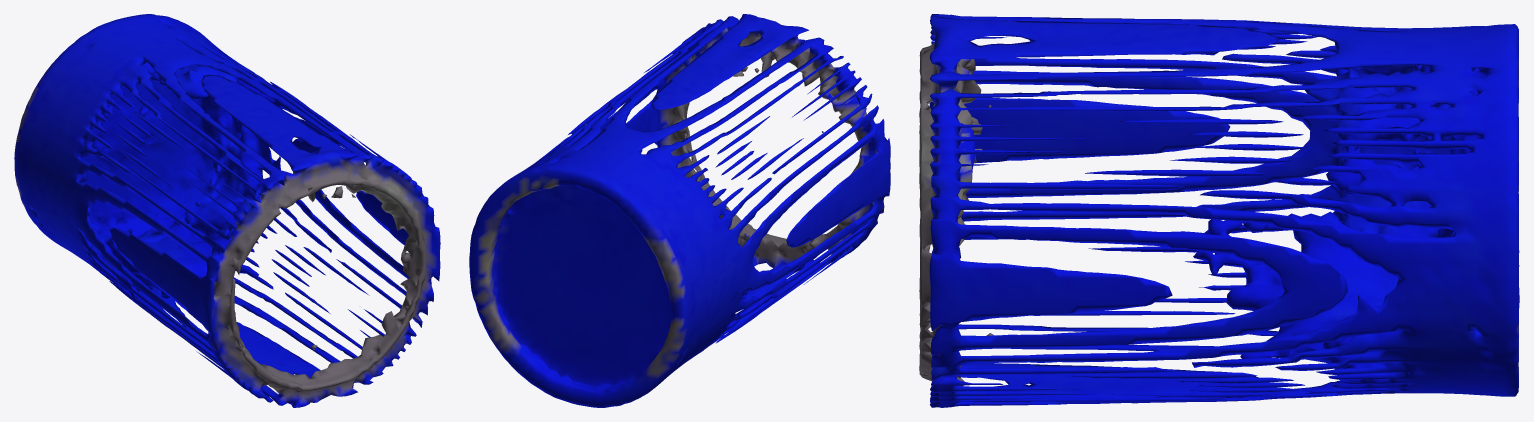
The model's file is a trash can with open affordance.obj.
The picture shows the model from 3 angles, left to right: view 1: azimuth 30°, elevation 25°; view 2: azimuth 150°, elevation 25°; view 3: azimuth 270°, elevation 25°; orthographic projection. The views are drawn at different scales.
Bounding box in the file's own units: 0.6444 × 0.6515 × 1.
